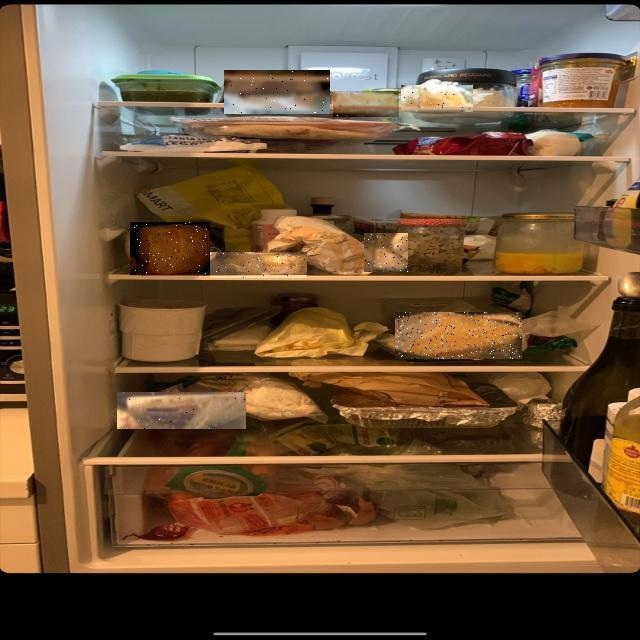Butter: (333, 91, 399, 117)
Cheese: (395, 312, 522, 359), (130, 222, 210, 276), (210, 252, 307, 278), (364, 233, 408, 272)
Eggs: (224, 70, 330, 114)
Ham: (117, 392, 246, 429)
Lemon: (401, 85, 473, 112)
